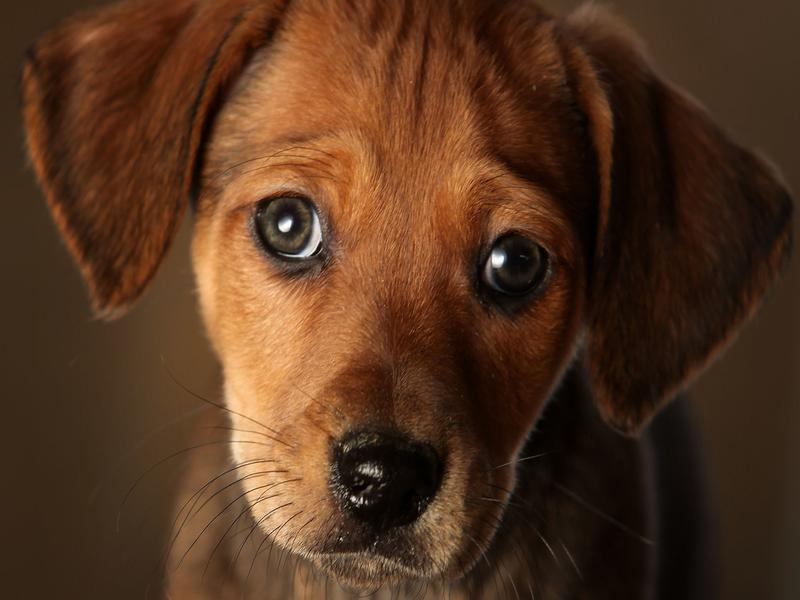dog: (23, 3, 793, 596)
